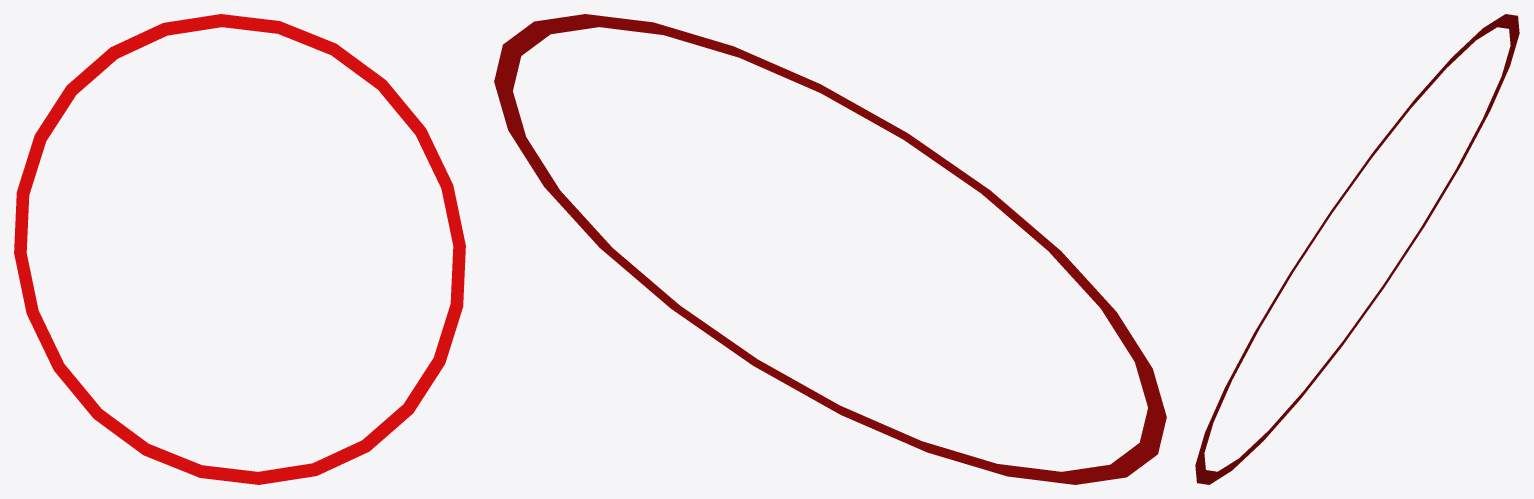
Rendered from original-13.obj.
The picture shows the model from 3 angles, left to right: view 1: azimuth 30°, elevation 25°; view 2: azimuth 150°, elevation 25°; view 3: azimuth 270°, elevation 25°; orthographic projection. The views are drawn at different scales.
Parts seen in each view (by area): view 1: 3dw.47c68395a5775e10d9deb3f829cc2475/Model/Component_18_1/Compon; view 2: 3dw.47c68395a5775e10d9deb3f829cc2475/Model/Component_18_1/Compon; view 3: 3dw.47c68395a5775e10d9deb3f829cc2475/Model/Component_18_1/Compon.
Boxes of the visible parts, left/top/right/bottom form: 3dw.47c68395a5775e10d9deb3f829cc2475/Model/Component_18_1/Compon: left=14, top=14, right=465, bottom=484; 3dw.47c68395a5775e10d9deb3f829cc2475/Model/Component_18_1/Compon: left=494, top=14, right=1166, bottom=484; 3dw.47c68395a5775e10d9deb3f829cc2475/Model/Component_18_1/Compon: left=1195, top=14, right=1519, bottom=484.
Bounding box in the file's own units: 0.00611 × 0.00504 × 0.00351.
